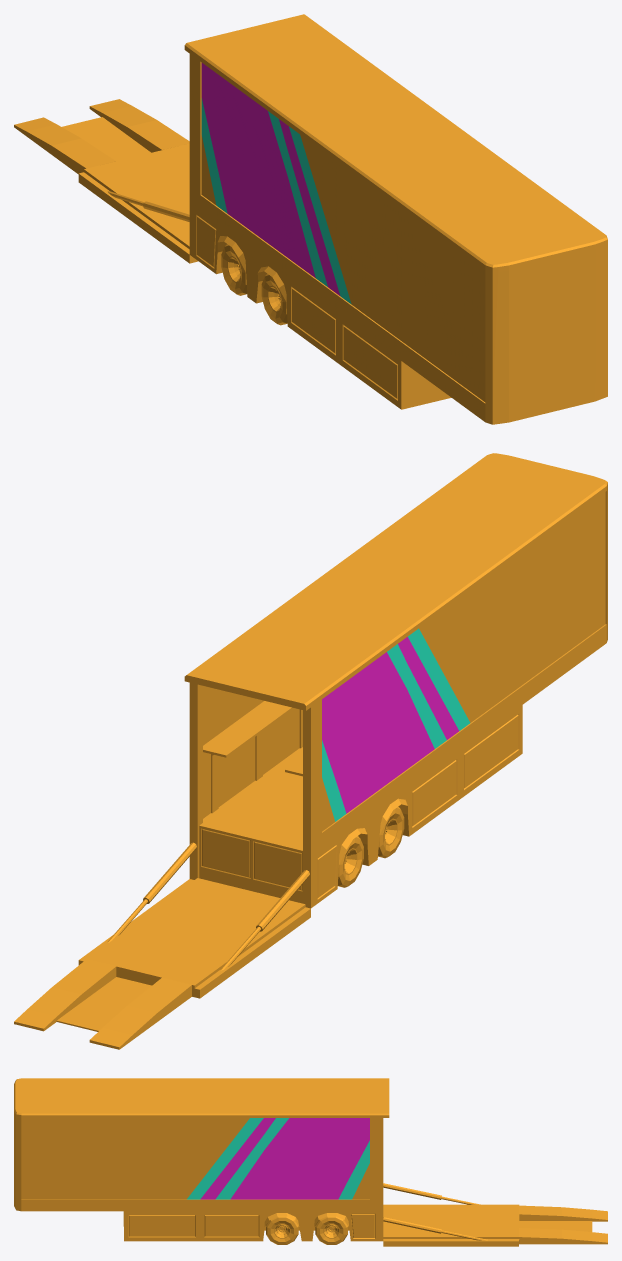
The model's file is SM_Car_Truck_Trailer_Car_Racing.fbx.
The picture shows the model from 3 angles, top to bottom: view 1: azimuth 30°, elevation 25°; view 2: azimuth 150°, elevation 25°; view 3: azimuth 270°, elevation 25°; orthographic projection. The views are drawn at different scales.
Parts seen in each view (by area): view 1: SM_Car_Truck_Trailer_Car_Racing_Base, SM_Car_Truck_Trailer_Car_Racing_Door, SM_Car_Truck_Trailer_Car_Racing_Door_Ramp, SM_Car_Truck_Trailer_Car_Racing_Wheel_RB, SM_Car_Truck_Trailer_Car_Racing_Wheel_RF; view 2: SM_Car_Truck_Trailer_Car_Racing_Base, SM_Car_Truck_Trailer_Car_Racing_Door, SM_Car_Truck_Trailer_Car_Racing_Door_Ramp, SM_Car_Truck_Trailer_Car_Racing_Wheel_RB, SM_Car_Truck_Trailer_Car_Racing_Wheel_RF; view 3: SM_Car_Truck_Trailer_Car_Racing_Base, SM_Car_Truck_Trailer_Car_Racing_Door, SM_Car_Truck_Trailer_Car_Racing_Door_Ramp, SM_Car_Truck_Trailer_Car_Racing_Wheel_LB, SM_Car_Truck_Trailer_Car_Racing_Wheel_LF.
Boxes of the visible parts, x1,y1,x2,y2 form: SM_Car_Truck_Trailer_Car_Racing_Base: (184,14,607,424); SM_Car_Truck_Trailer_Car_Racing_Door: (78,143,198,263); SM_Car_Truck_Trailer_Car_Racing_Door_Ramp: (14,99,189,174); SM_Car_Truck_Trailer_Car_Racing_Wheel_RB: (221,244,247,295); SM_Car_Truck_Trailer_Car_Racing_Wheel_RF: (261,273,287,325); SM_Car_Truck_Trailer_Car_Racing_Base: (184,453,607,908); SM_Car_Truck_Trailer_Car_Racing_Door: (78,842,310,998); SM_Car_Truck_Trailer_Car_Racing_Door_Ramp: (14,959,191,1049); SM_Car_Truck_Trailer_Car_Racing_Wheel_RB: (337,836,363,887); SM_Car_Truck_Trailer_Car_Racing_Wheel_RF: (378,806,404,858); SM_Car_Truck_Trailer_Car_Racing_Base: (14,1078,389,1241); SM_Car_Truck_Trailer_Car_Racing_Door: (383,1183,519,1246); SM_Car_Truck_Trailer_Car_Racing_Door_Ramp: (519,1205,607,1244); SM_Car_Truck_Trailer_Car_Racing_Wheel_LB: (315,1216,347,1244); SM_Car_Truck_Trailer_Car_Racing_Wheel_LF: (266,1216,298,1244).
Bounding box in the file's own units: 2.99 × 4.8 × 19.5.
